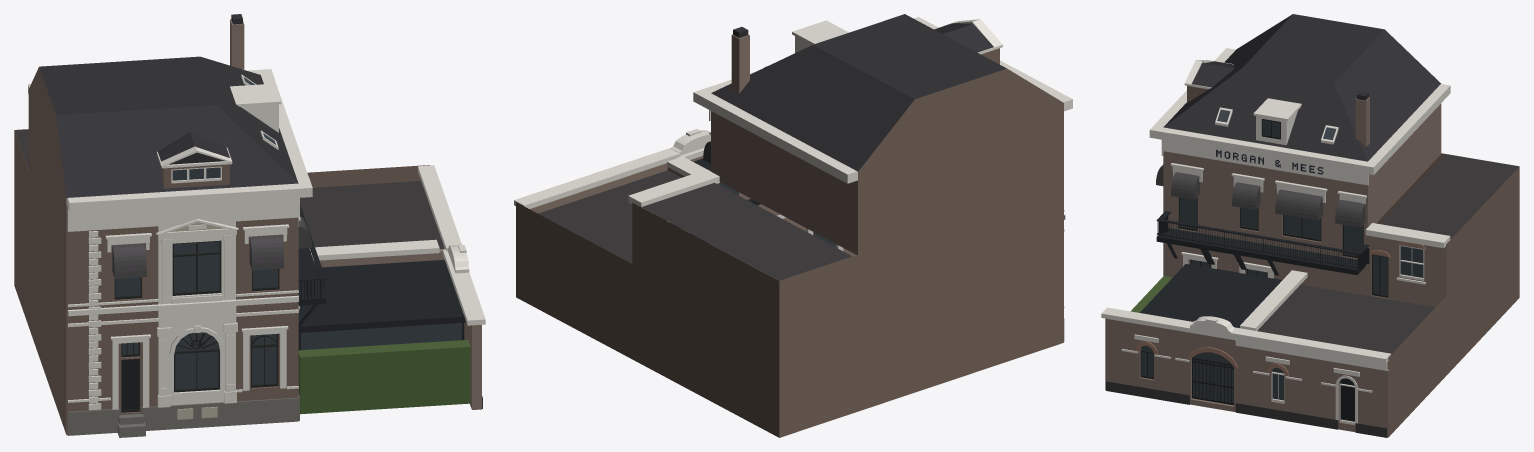
File: morgan-mees.glb
3 renders of one model, left to right at view 1: azimuth 30°, elevation 25°; view 2: azimuth 150°, elevation 25°; view 3: azimuth 270°, elevation 25°, orthographic. The views are drawn at different scales.
Parts seen in each view (by area): view 1: morgan-mees; view 2: morgan-mees; view 3: morgan-mees.
Boxes of the visible parts, x1=… form: morgan-mees: x1=14, y1=14, x2=485, y2=437; morgan-mees: x1=514, y1=14, x2=1072, y2=437; morgan-mees: x1=1101, y1=14, x2=1519, y2=437.
Size of the model in its own units: 23.67 by 15 by 22.03.
